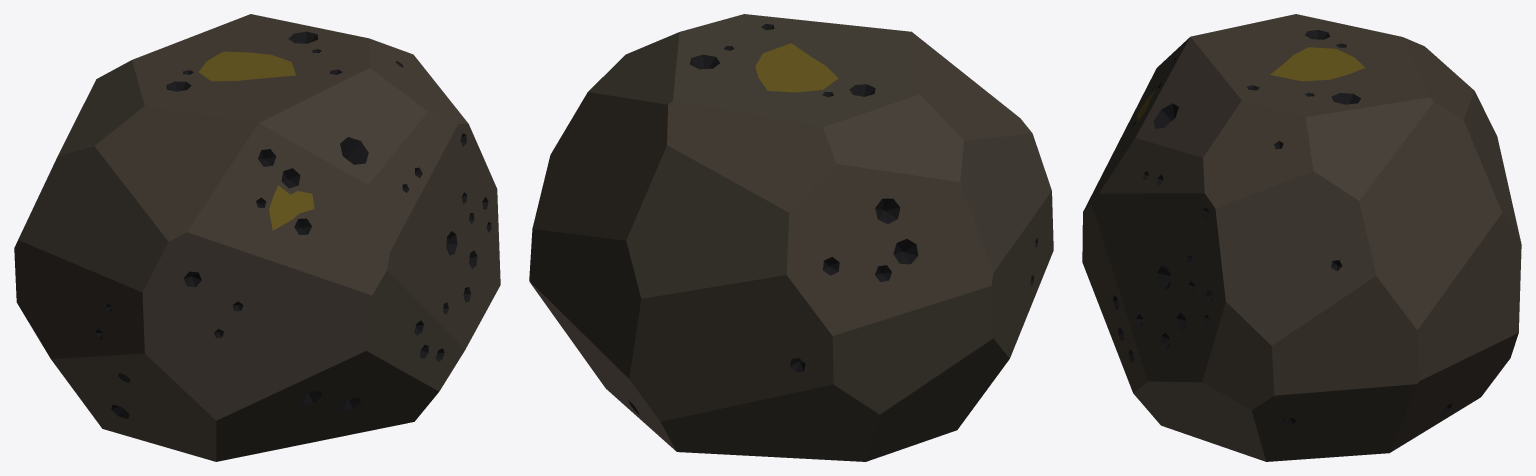
Rendered from basalt-boulder-a1929c.glb.
3 views of the same model, side by side, from view 1: azimuth 30°, elevation 25°; view 2: azimuth 150°, elevation 25°; view 3: azimuth 270°, elevation 25° (orthographic). The views are drawn at different scales.
Visible parts, largest first — view 1: stone; view 2: stone; view 3: stone.
Part boxes in pixels (bbox=[...]): stone: bbox=[14, 14, 500, 461]; stone: bbox=[529, 14, 1053, 461]; stone: bbox=[1082, 14, 1521, 461].
Size of the model in its own units: 1.03 by 0.7283 by 0.8965.
